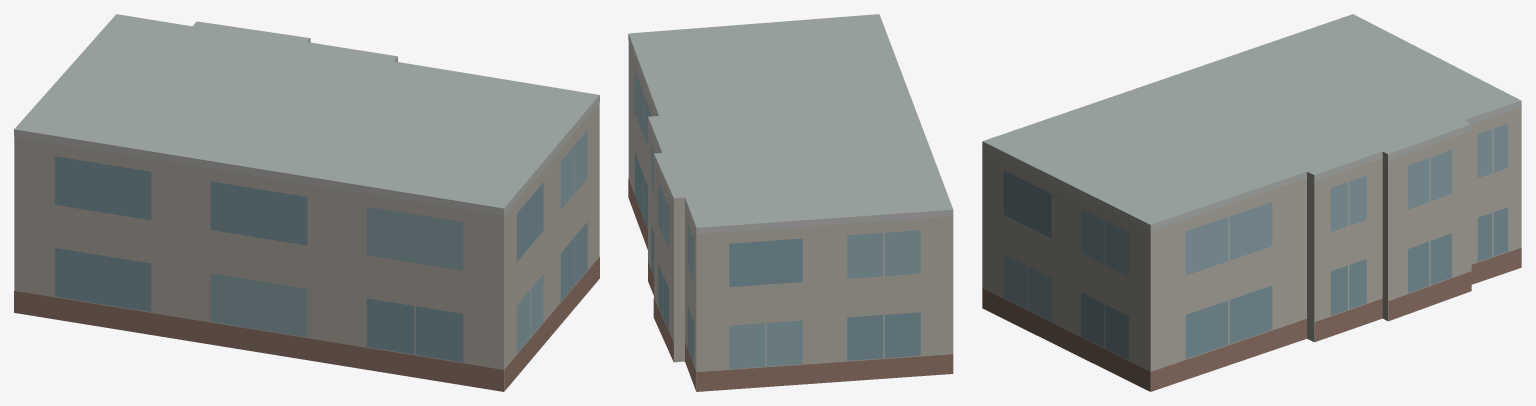
File: survey-upis-32886719.glb
The picture shows the model from 3 angles, left to right: view 1: azimuth 30°, elevation 25°; view 2: azimuth 150°, elevation 25°; view 3: azimuth 270°, elevation 25°; orthographic projection. The views are drawn at different scales.
Parts seen in each view (by area): view 1: survey-upis-32886719.tmp; view 2: survey-upis-32886719.tmp; view 3: survey-upis-32886719.tmp.
Part boxes in pixels (left/top/right/bottom): survey-upis-32886719.tmp: left=14, top=14, right=599, bottom=391; survey-upis-32886719.tmp: left=628, top=14, right=953, bottom=391; survey-upis-32886719.tmp: left=982, top=14, right=1521, bottom=391.
Bounding box in the file's own units: 16.52 × 6.1 × 17.86.
